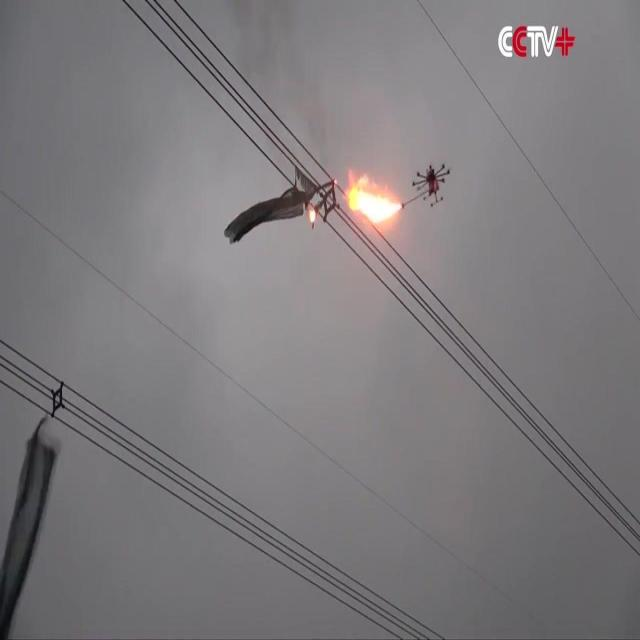drone: (411, 160, 457, 209)
